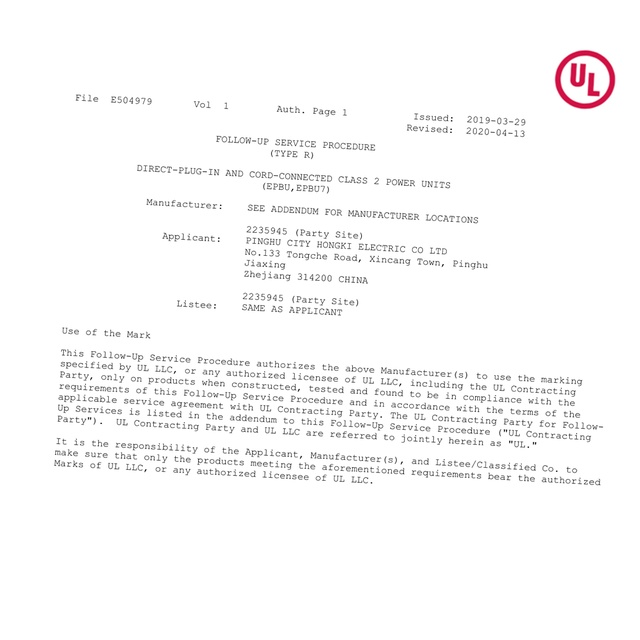ul: (554, 50, 617, 108)
